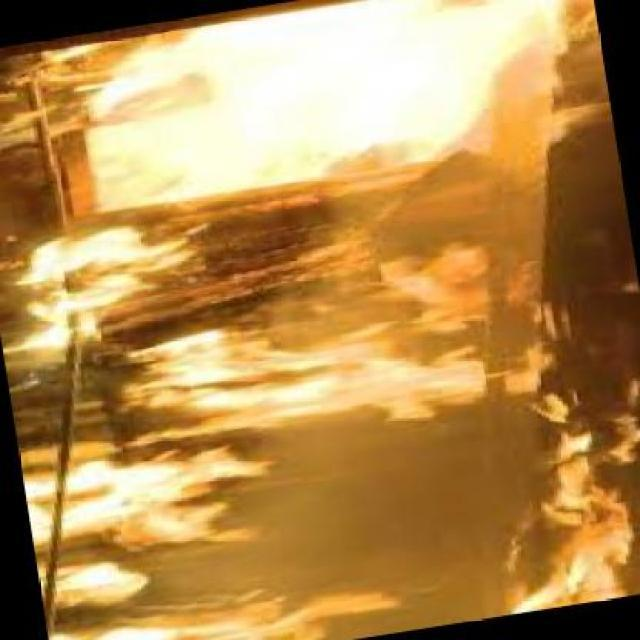Fire: (56, 18, 603, 606)
